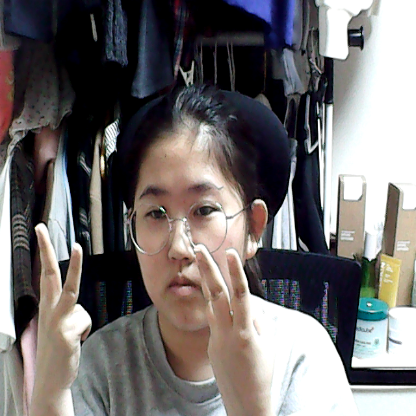Finger_2: (22, 215, 110, 389)
Finger_3: (194, 241, 282, 389)
